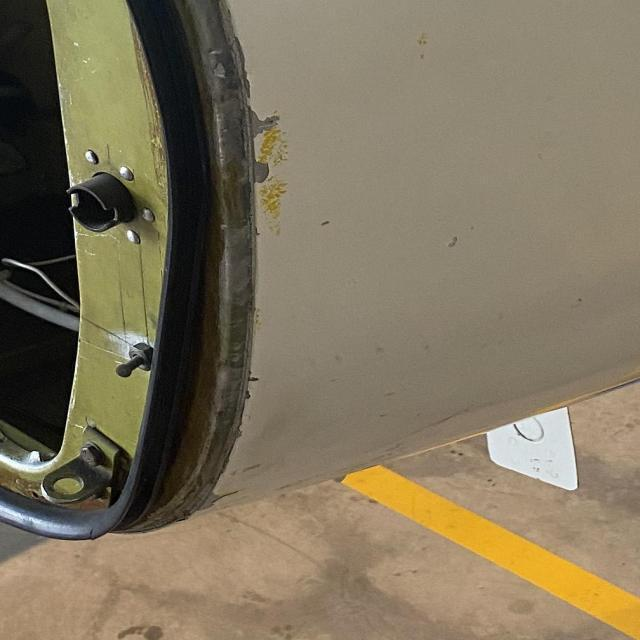Paint-off: (250, 112, 281, 139), (251, 162, 271, 186)
